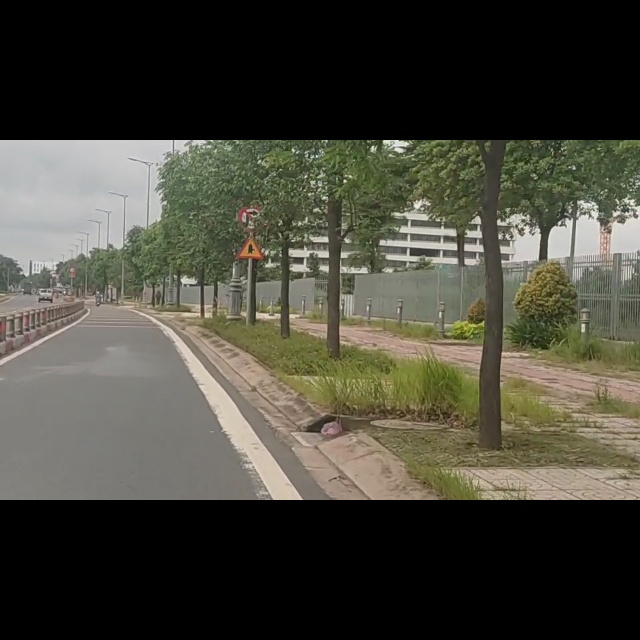bien_nguy_hiem: (235, 173, 265, 215)
